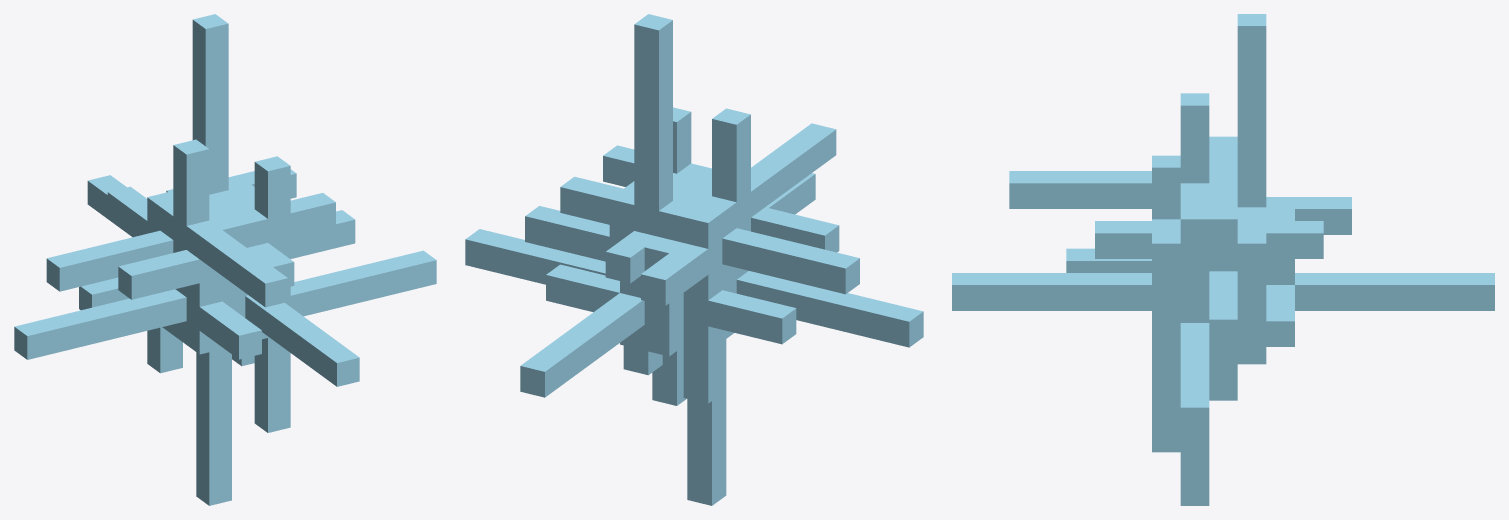
File: ice.dae
3 views of the same model, side by side, from view 1: azimuth 30°, elevation 25°; view 2: azimuth 150°, elevation 25°; view 3: azimuth 270°, elevation 25° (orthographic). The views are drawn at different scales.
Visible parts, largest first — view 1: ice; view 2: ice; view 3: ice.
Part boxes in pixels (x1,y1,x2,y2): ice: (14,14,436,505); ice: (465,14,923,505); ice: (952,14,1494,505).
Size of the model in its own units: 18 by 19 by 19.
Materials: 1 (1 with a texture image).
